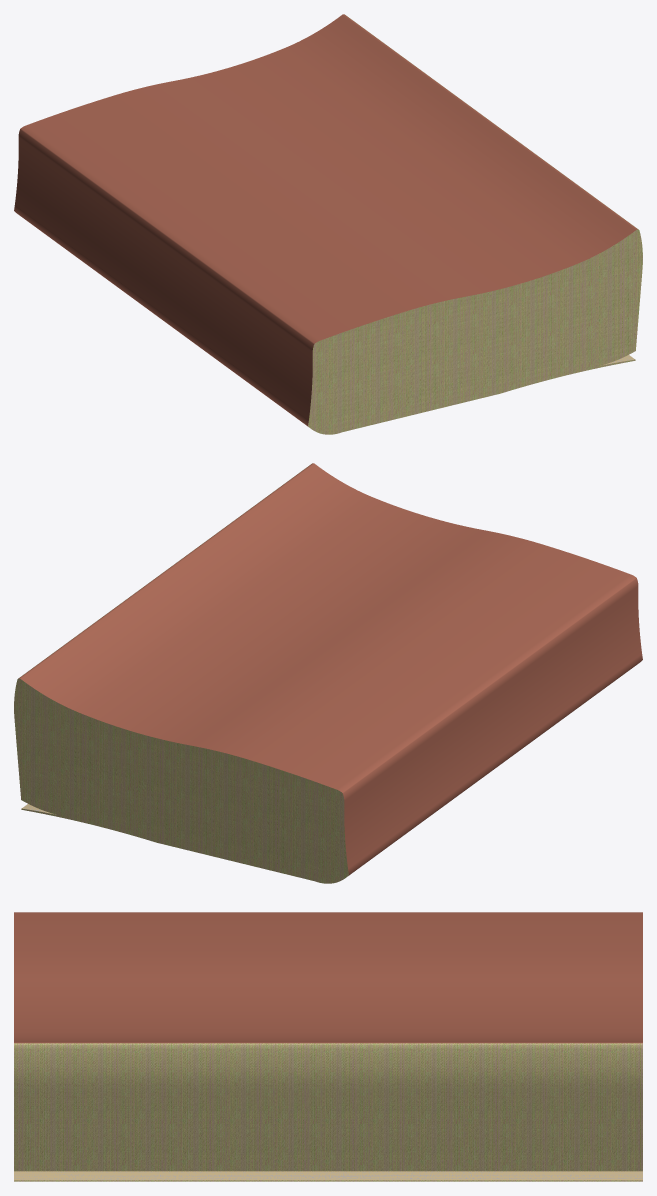
3 renders of one model, top to bottom at view 1: azimuth 30°, elevation 25°; view 2: azimuth 150°, elevation 25°; view 3: azimuth 270°, elevation 25°, orthographic. The views are drawn at different scales.
Parts seen in each view (by area): view 1: SketchUp (×2); view 2: SketchUp (×2); view 3: SketchUp (×3).
Part boxes in pixels (bbox=[...]): SketchUp (×2): bbox=[14, 14, 642, 434]; SketchUp (×2): bbox=[14, 463, 642, 883]; SketchUp (×3): bbox=[14, 912, 642, 1181].
Bounding box in the file's own units: 5.13 × 7.8 × 1.92.
4 materials, 1 textured.
